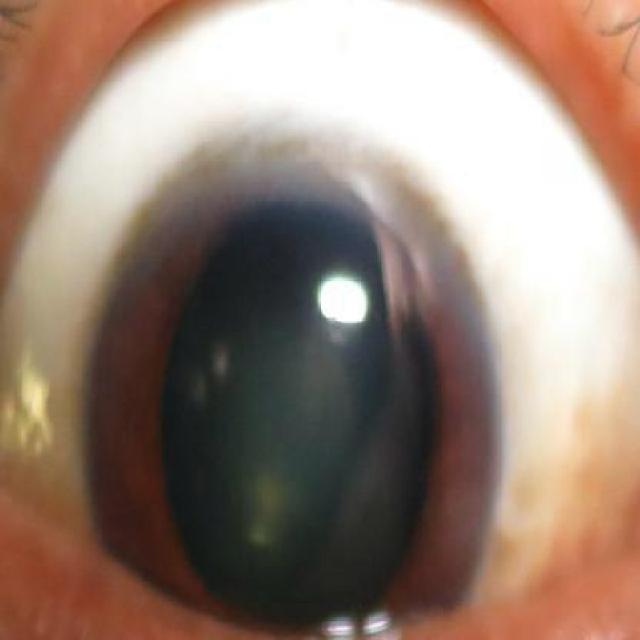Cataract: (84, 115, 504, 640)
